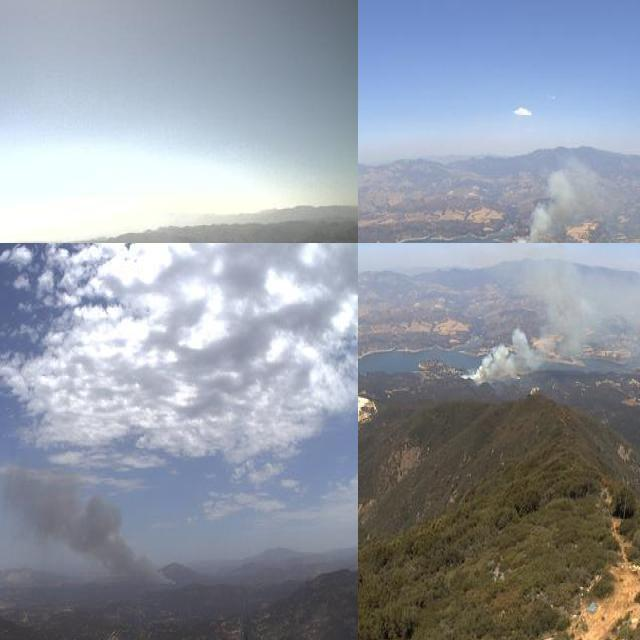smoke: (0, 444, 181, 600), (452, 243, 640, 391), (490, 148, 616, 243)
